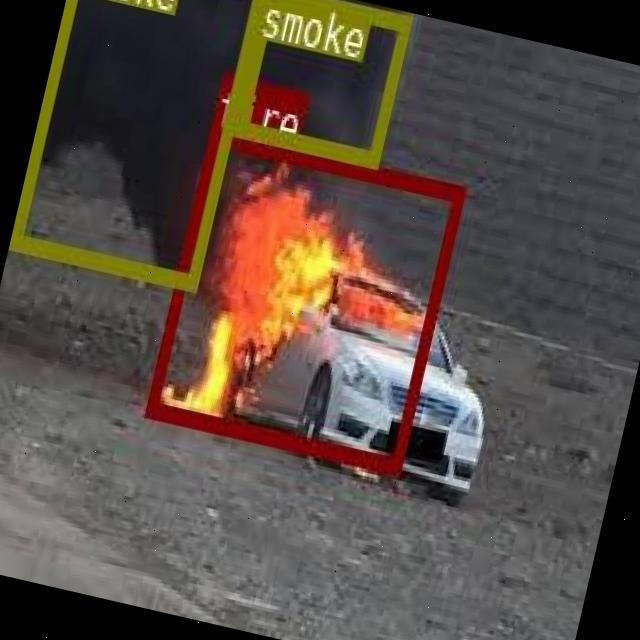fire: (144, 127, 465, 470)
smoke: (8, 0, 263, 288), (232, 0, 409, 166)
